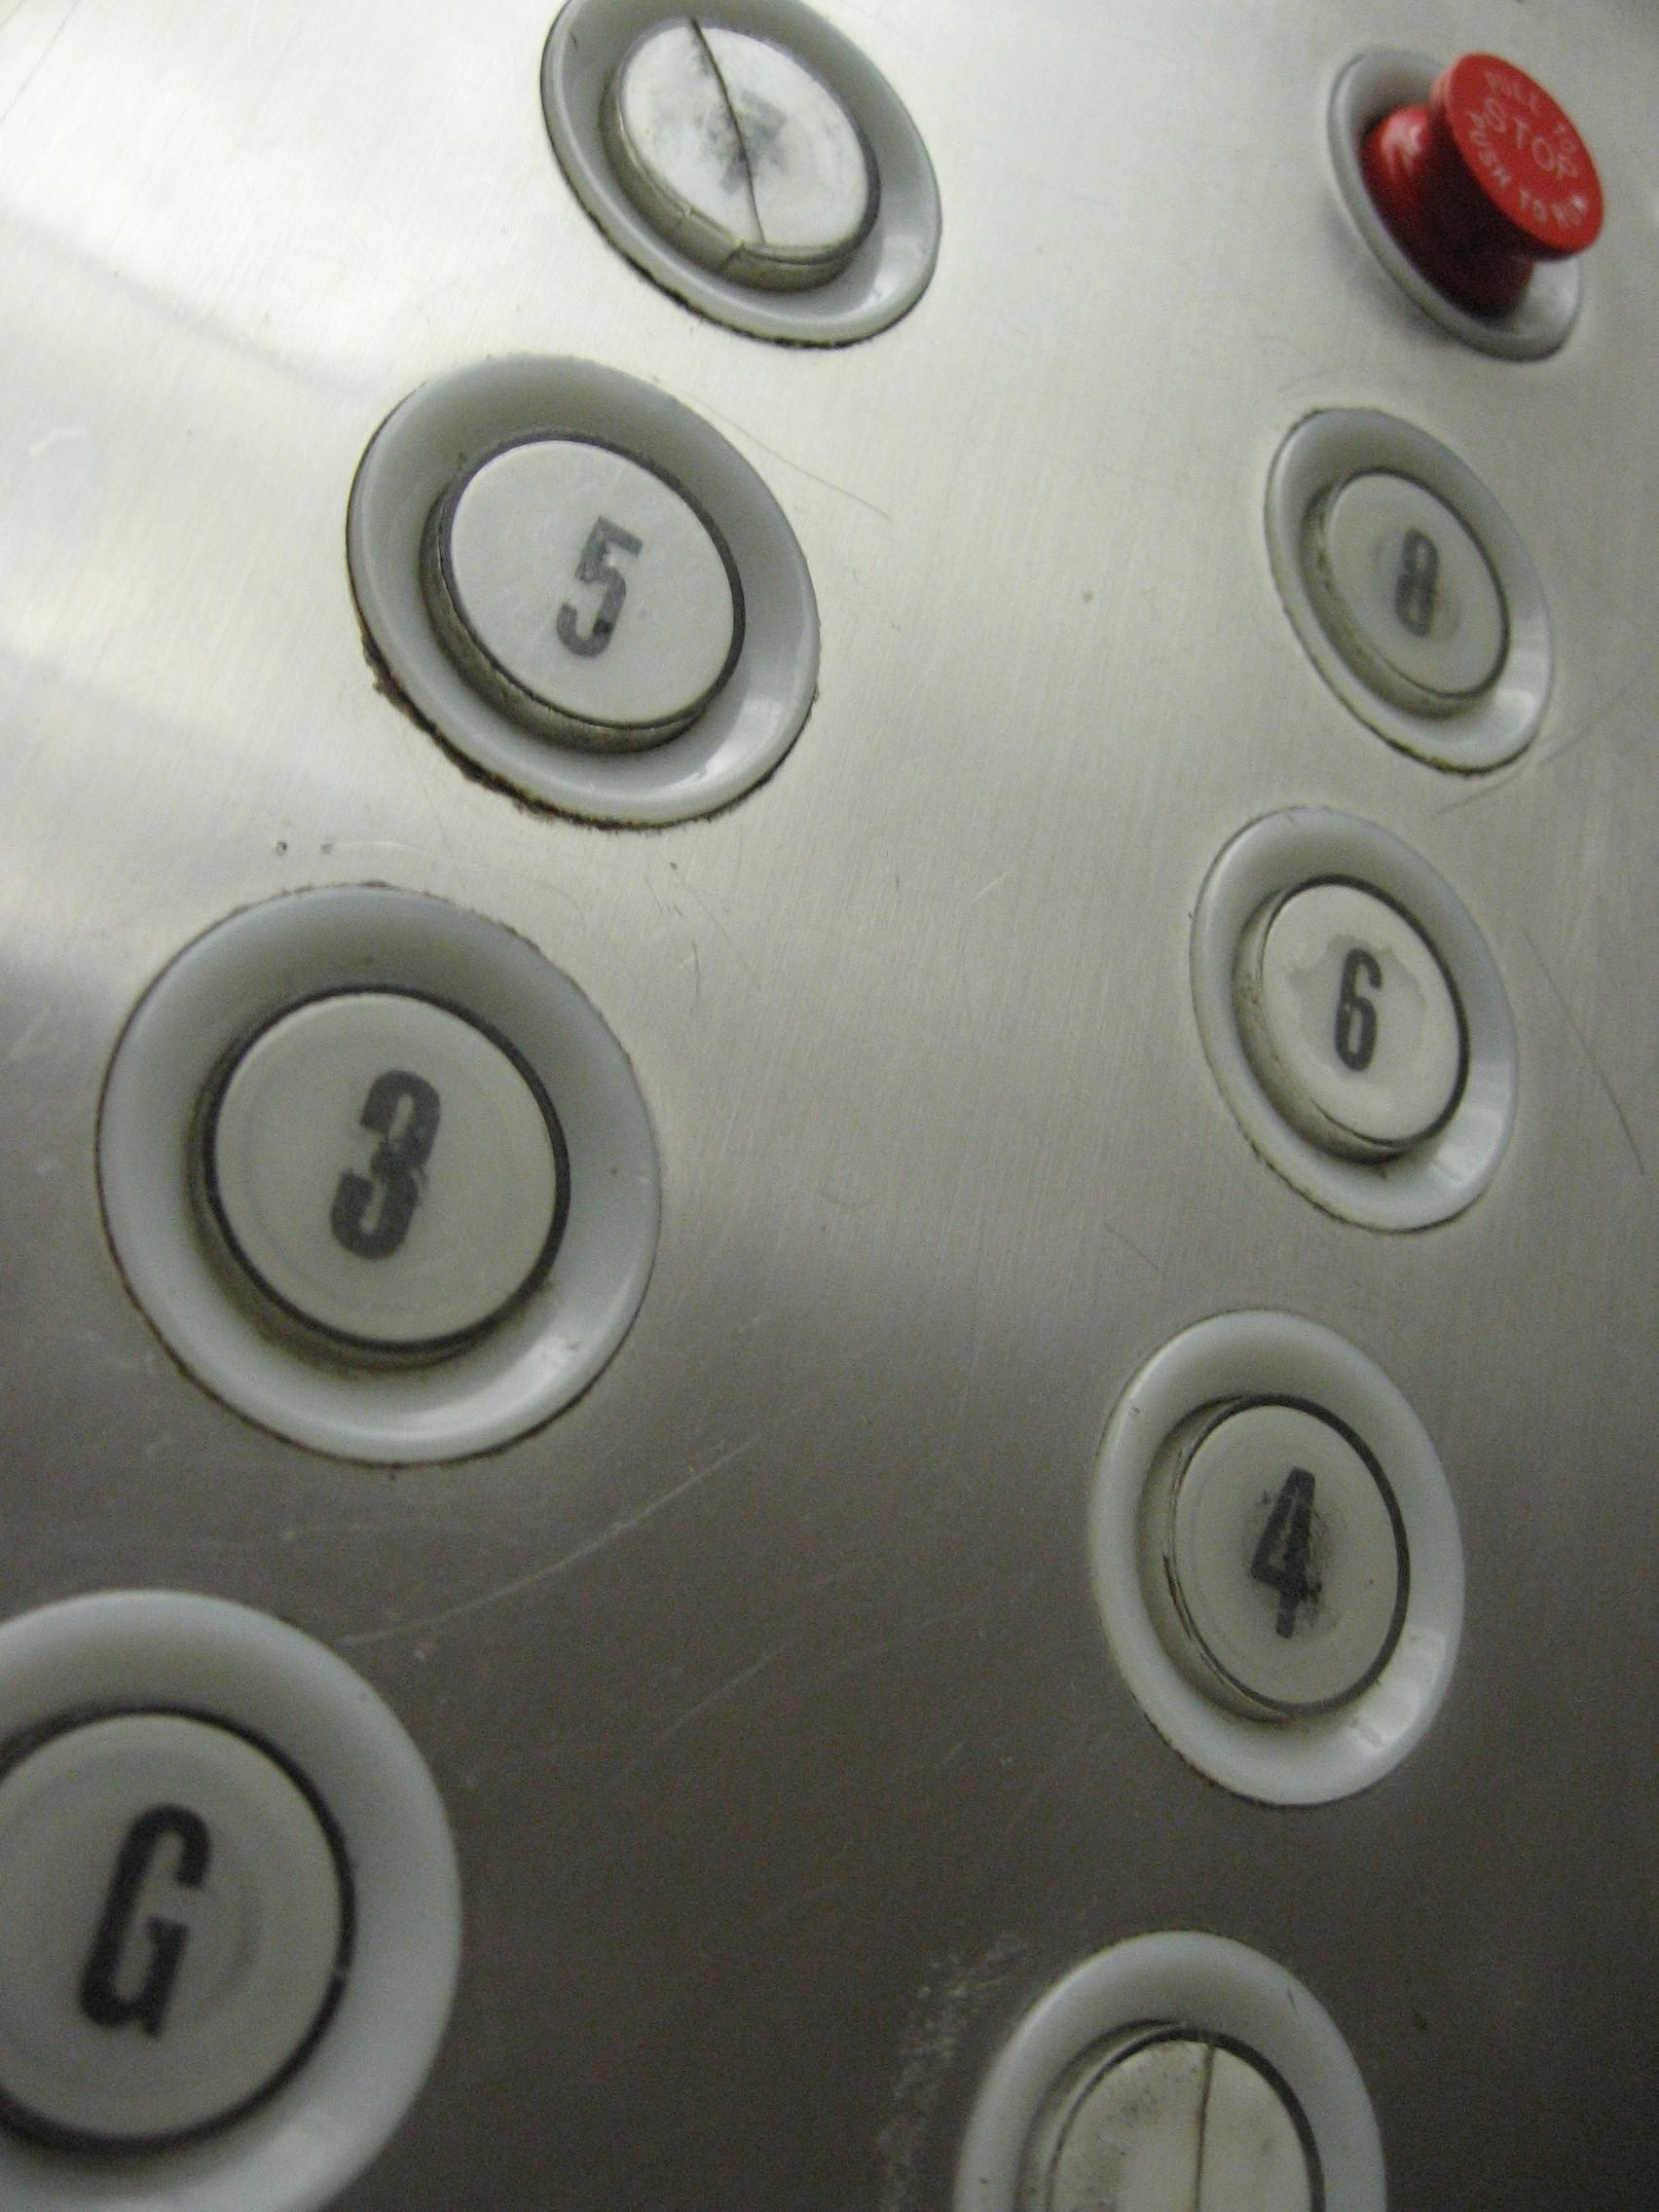3: (71, 864, 676, 1487)
4: (1073, 1303, 1483, 1827)
5: (335, 347, 835, 845)
6: (1176, 798, 1532, 1245)
8: (1249, 392, 1572, 786)
G: (2, 1578, 486, 2209)
empty: (525, 2, 960, 361)
text_stop: (1316, 28, 1624, 376)
